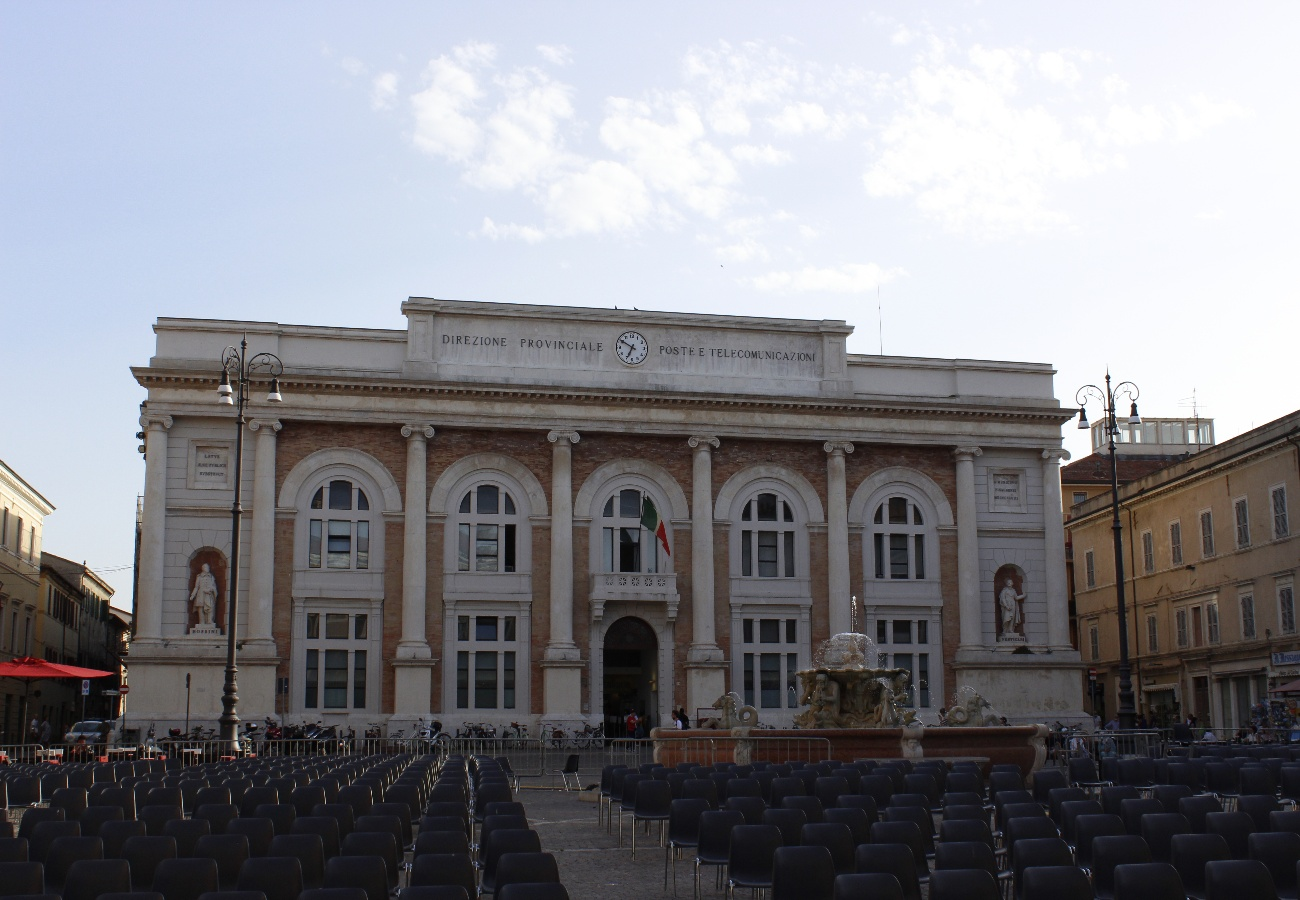Fontana Piazza del Popolo: (803, 671, 911, 727)
Gioachino Rossini: (186, 550, 228, 644)
Giulio Perticari: (995, 565, 1025, 645)
Palazzo delle Poste: (158, 297, 1065, 727)
